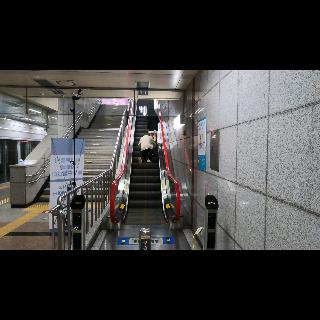anomaly: (138, 133, 158, 167)
normal: (146, 110, 162, 140)
